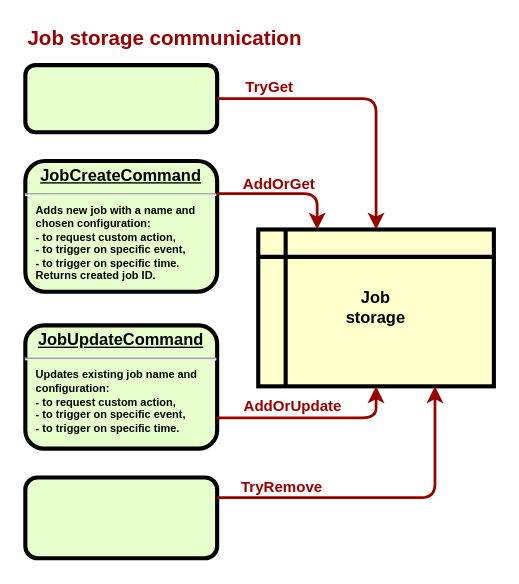
Image size: 519x584. Some labels were removed from this diagram. The centre of each missing label's shape, as x and y in pixels:
JobDeleteCommand Deletes job by ID and returns nothing.: point (121, 517)
JobQuery Queries and returns a job by ID.: point (121, 98)
